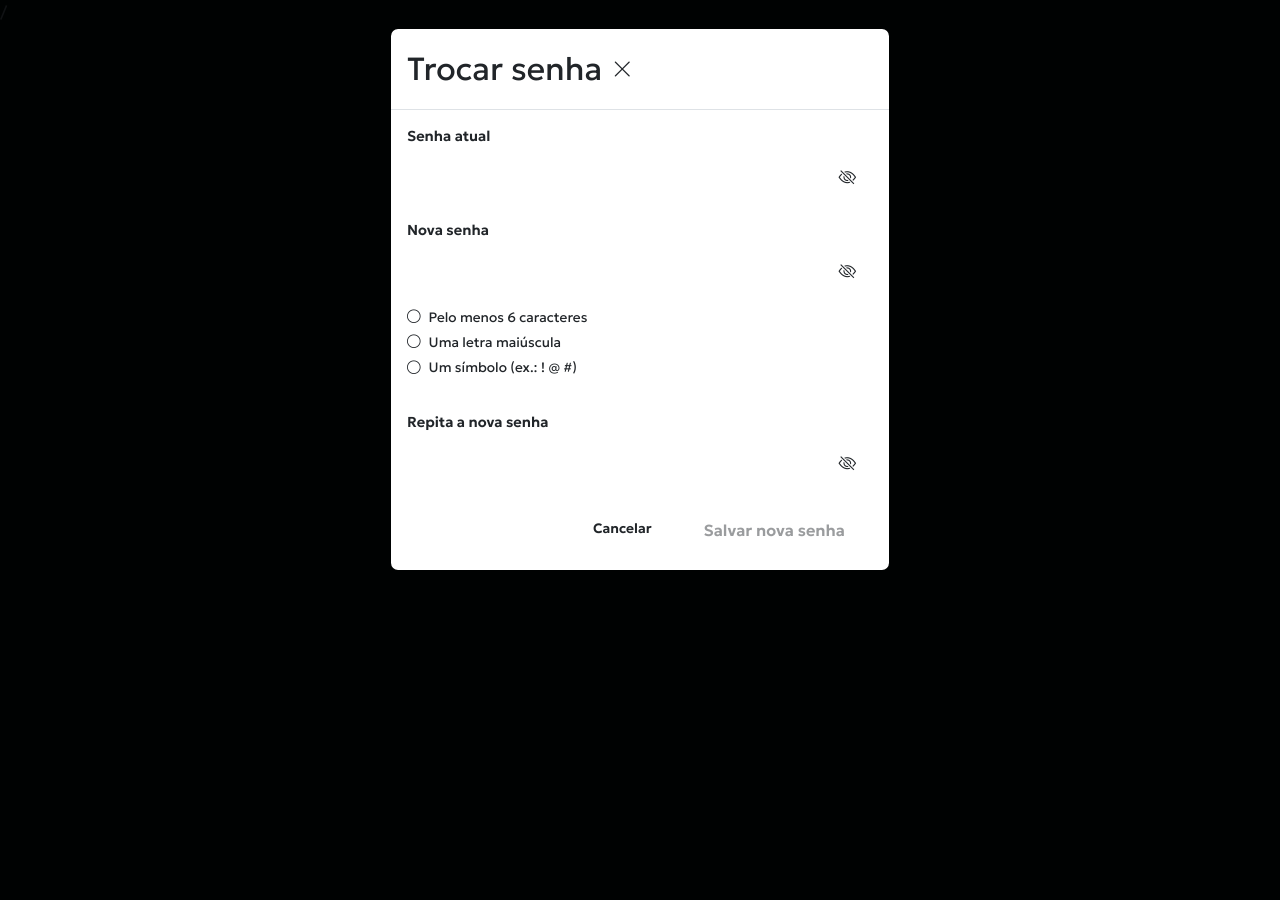
Test: ChangePasswordModal › só libera quando a nova senha cumpre as regras e as duas batem
Type "Atual!1" into the password field labelled "Senha atual" at (640, 178), box left=407, top=154, right=873, bottom=202
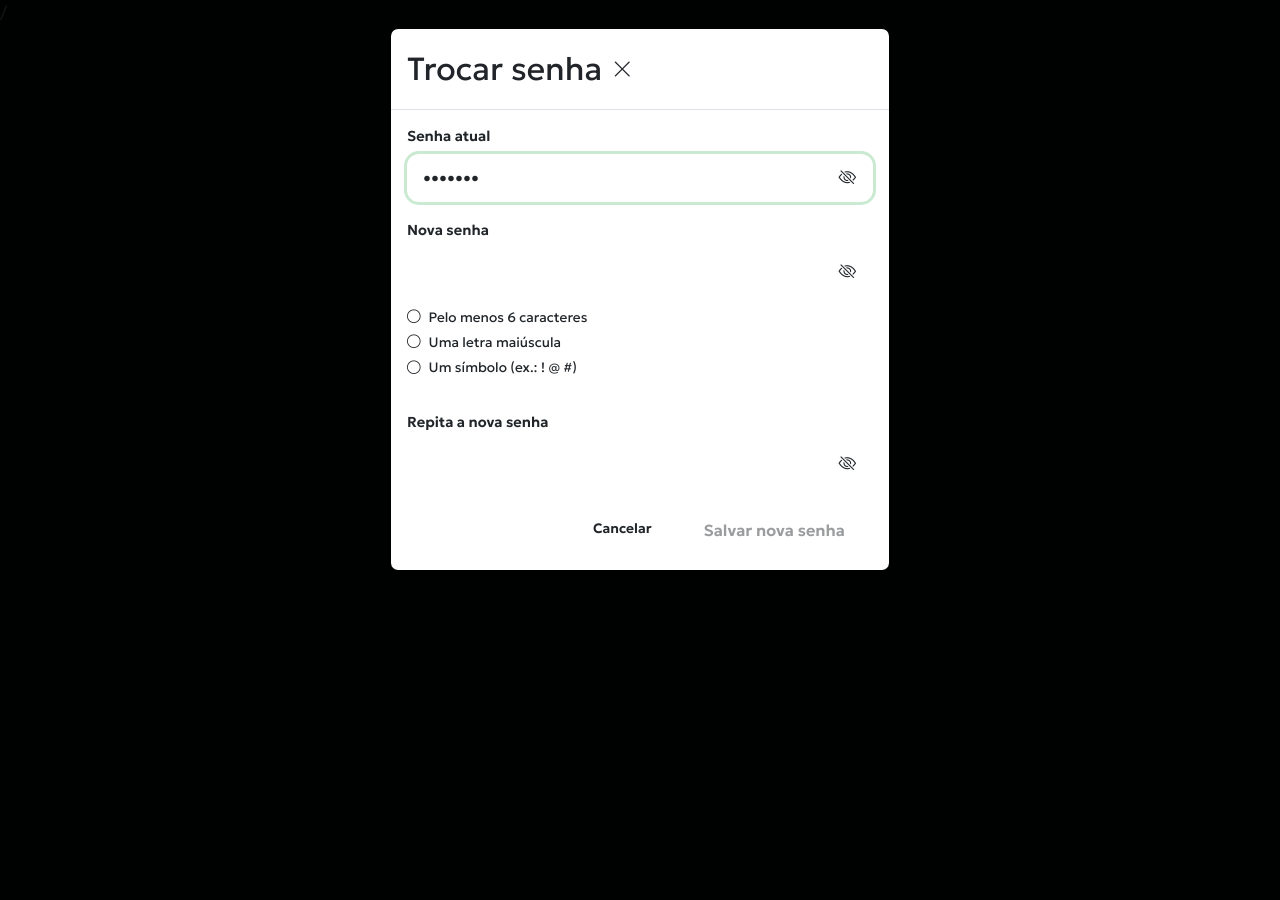
Type "fraca" into the password field labelled "Nova senha" at (640, 272), box left=407, top=248, right=873, bottom=296
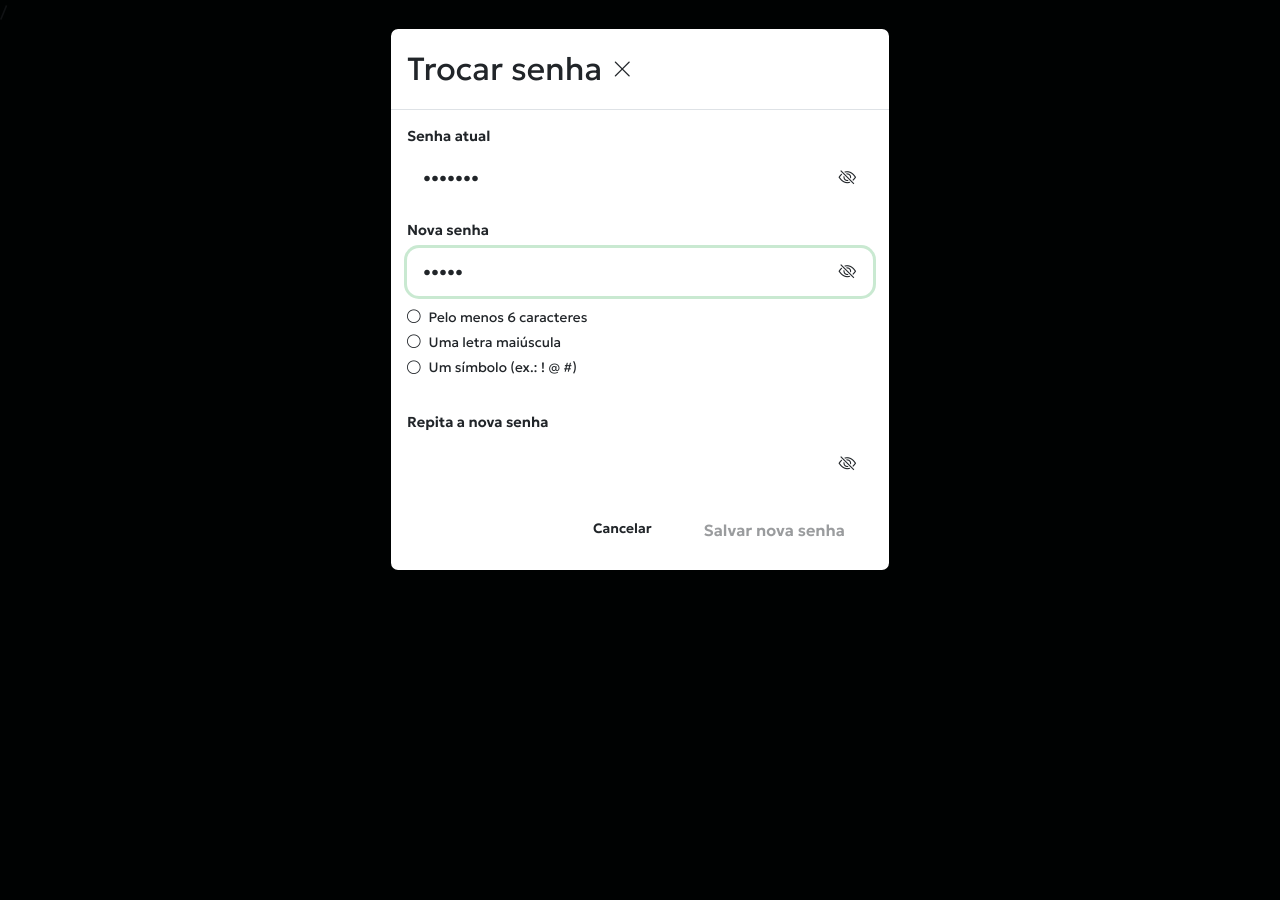
Type "fraca" into the password field labelled "Repita a nova senha" at (640, 464), box left=407, top=440, right=873, bottom=488
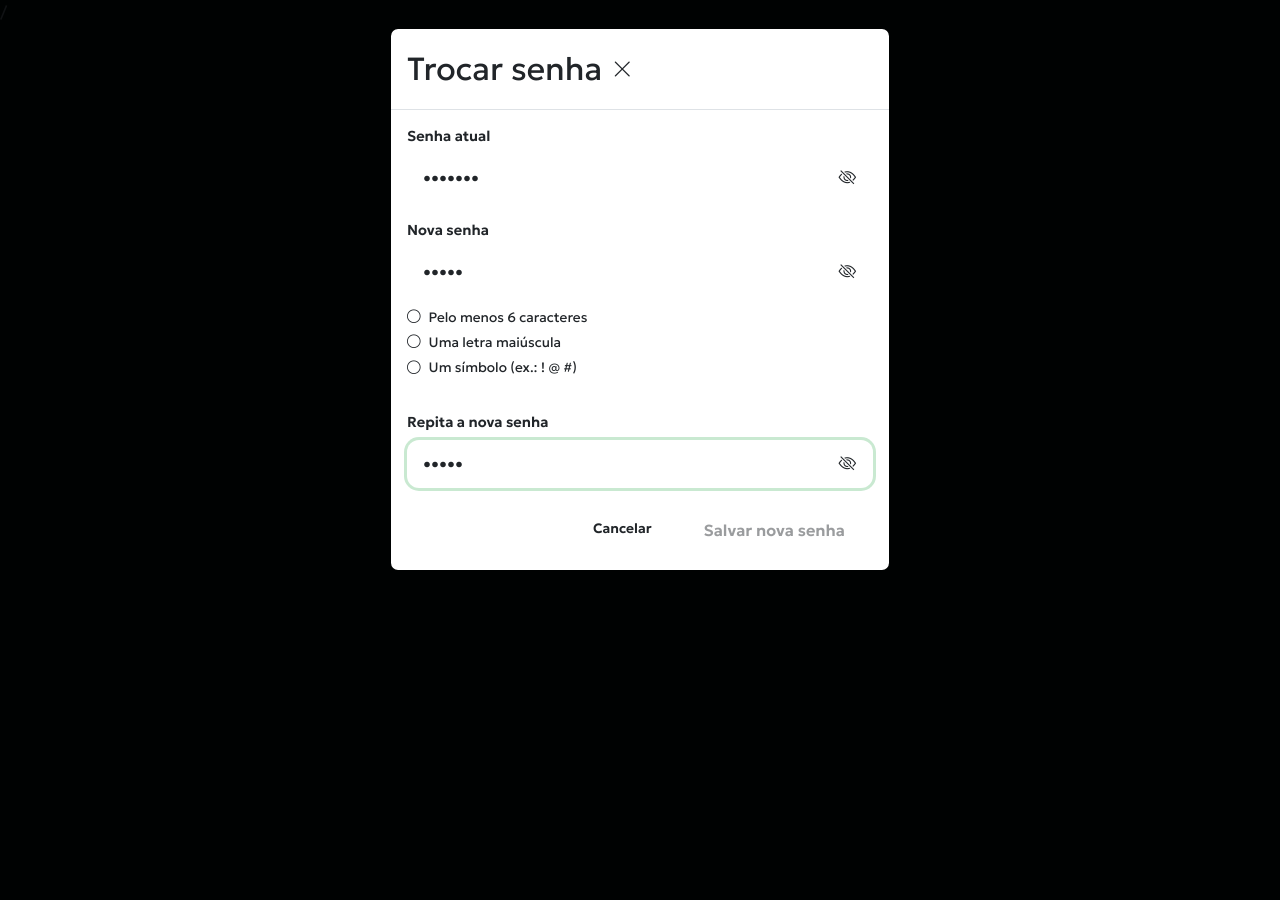
Expected: the button "Salvar nova senha" is disabled, left=676, top=506, right=873, bottom=554
Type "Nova!123" into the password field labelled "Nova senha" at (640, 272), box left=407, top=248, right=873, bottom=296
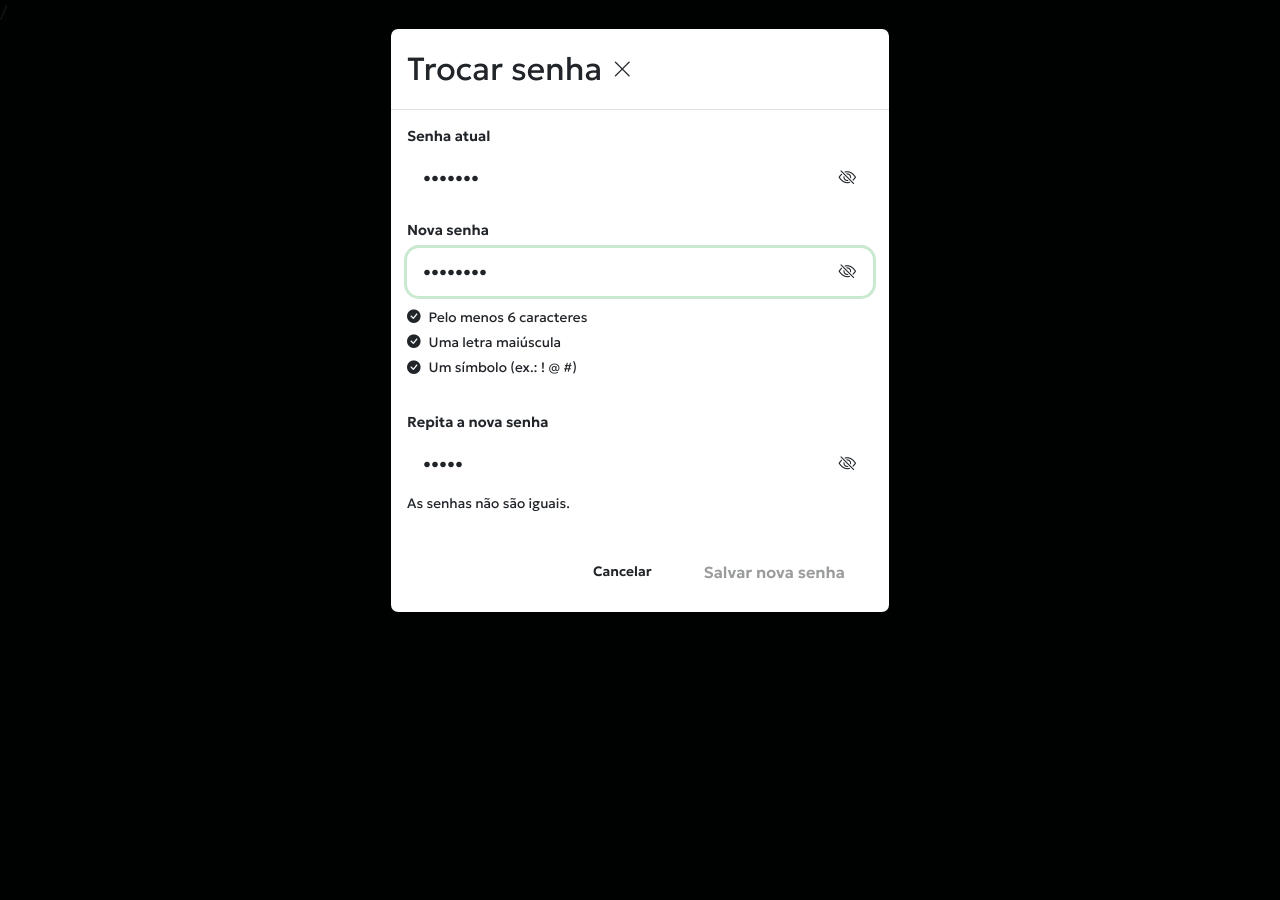
Expected: the button "Salvar nova senha" is disabled, left=676, top=548, right=873, bottom=596
Result: the text "As senhas não são iguais." is shown at left=407, top=495, right=570, bottom=512
Type "Nova!123" into the password field labelled "Repita a nova senha" at (640, 464), box left=407, top=440, right=873, bottom=488
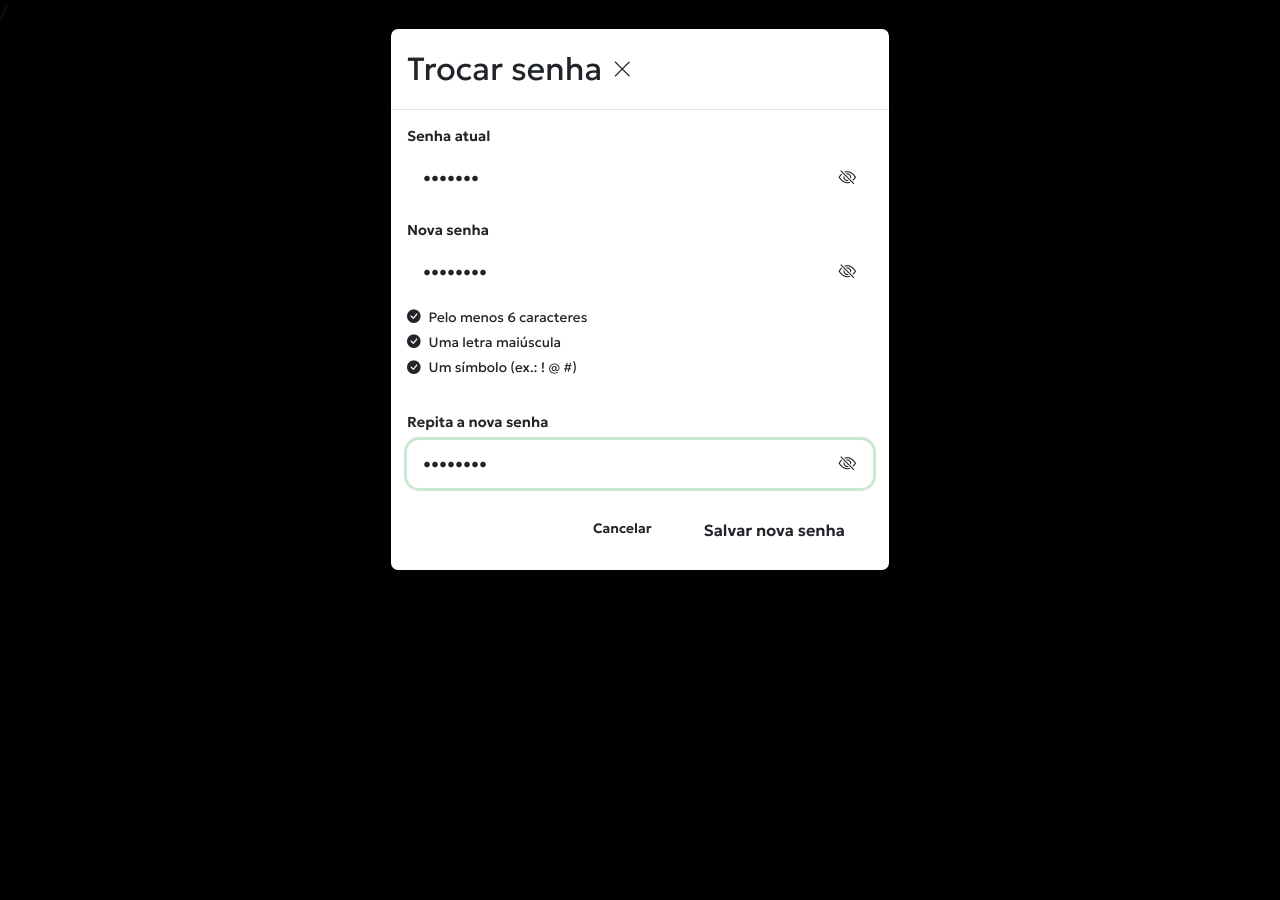
Result: the button "Salvar nova senha" is enabled at left=676, top=506, right=873, bottom=554
